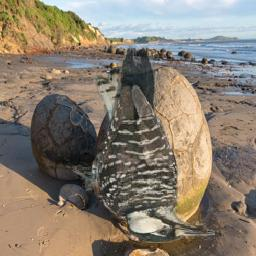Woodpecker: (67, 41, 216, 243)
